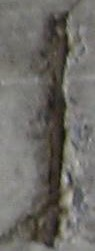Exposed reinforcement: (39, 12, 69, 248)
